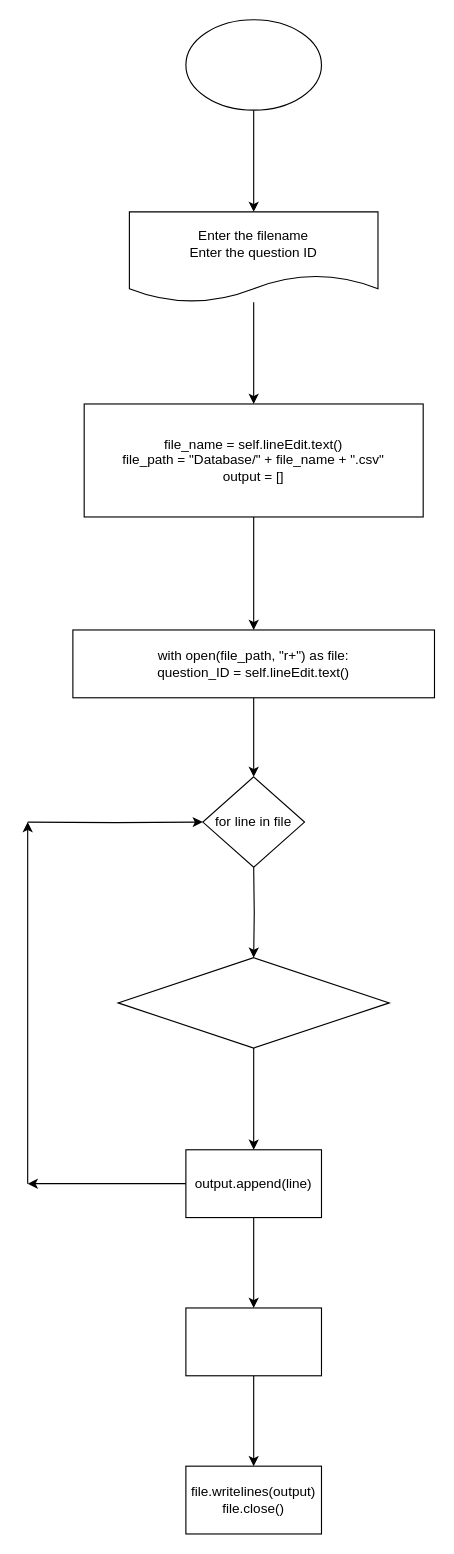
Image size: 454x1554. Some labels were removed from this diagram. Each missing label, with the centre of its shape:
file.close() file = open(file, "w): pixel 253 1341
if not line.startswith(questionID): pixel 253 1002
START: pixel 253 64
